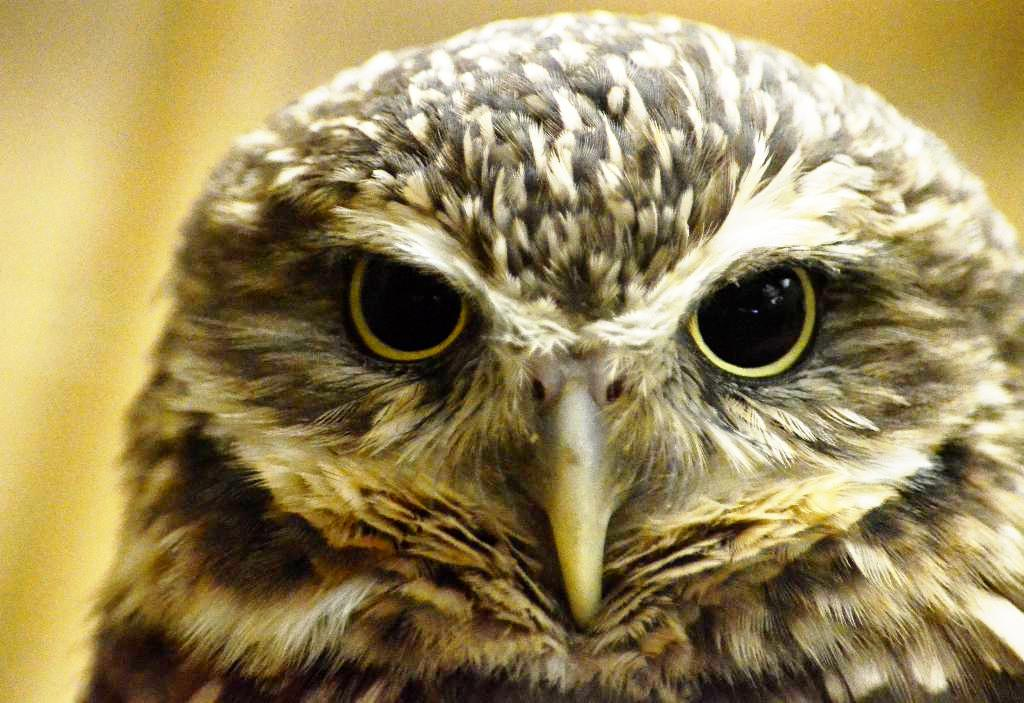Owl: (76, 6, 1024, 702)
